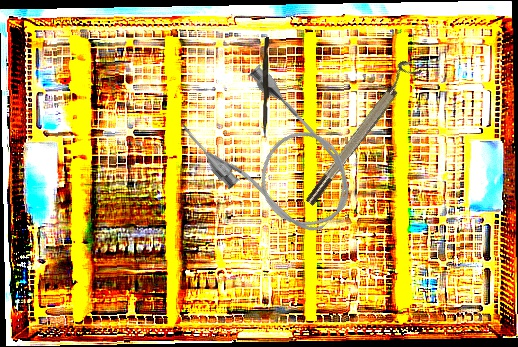Cannula: (174, 56, 372, 257)
Fixation Ring: (297, 57, 422, 208)
Pusher: (261, 37, 271, 138)
